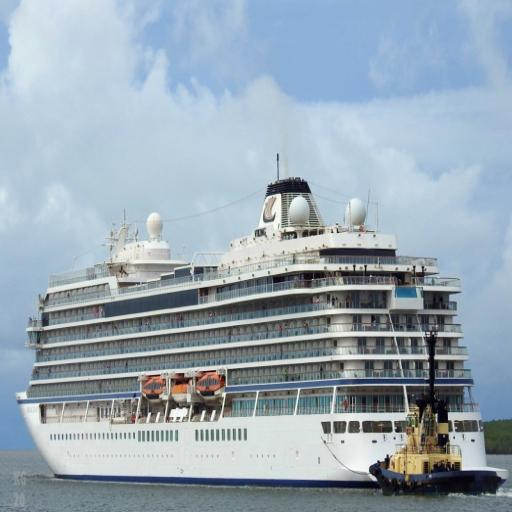cruises: (15, 155, 491, 481)
